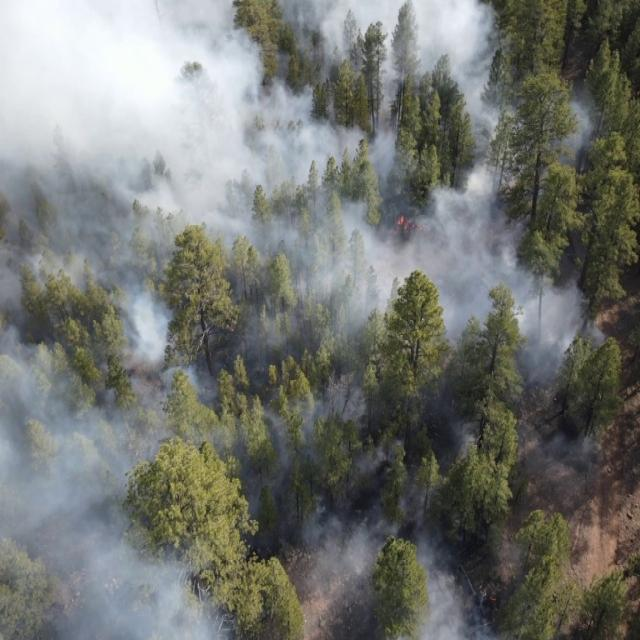fire: (392, 212, 434, 240)
smoke: (0, 0, 500, 640), (501, 274, 606, 388), (502, 81, 590, 195), (533, 432, 601, 506), (500, 210, 530, 274)
